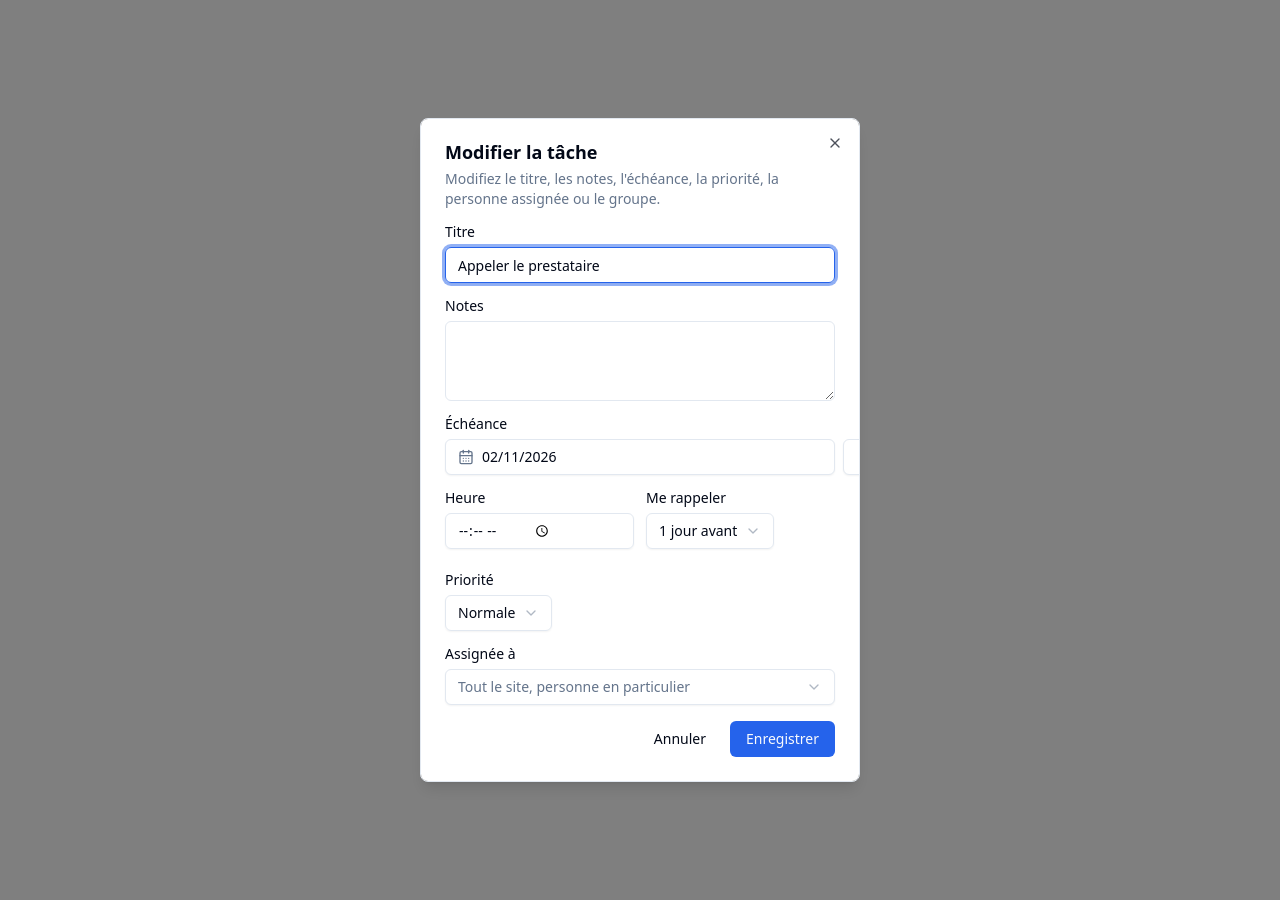
TodoEditDialog › still shows the Teams section, with a hint, when no team exists yet
This screenshot has width=1280, height=900.
Click the dropdown named "Assignée à" at (640, 687), box [445,669,835,705]
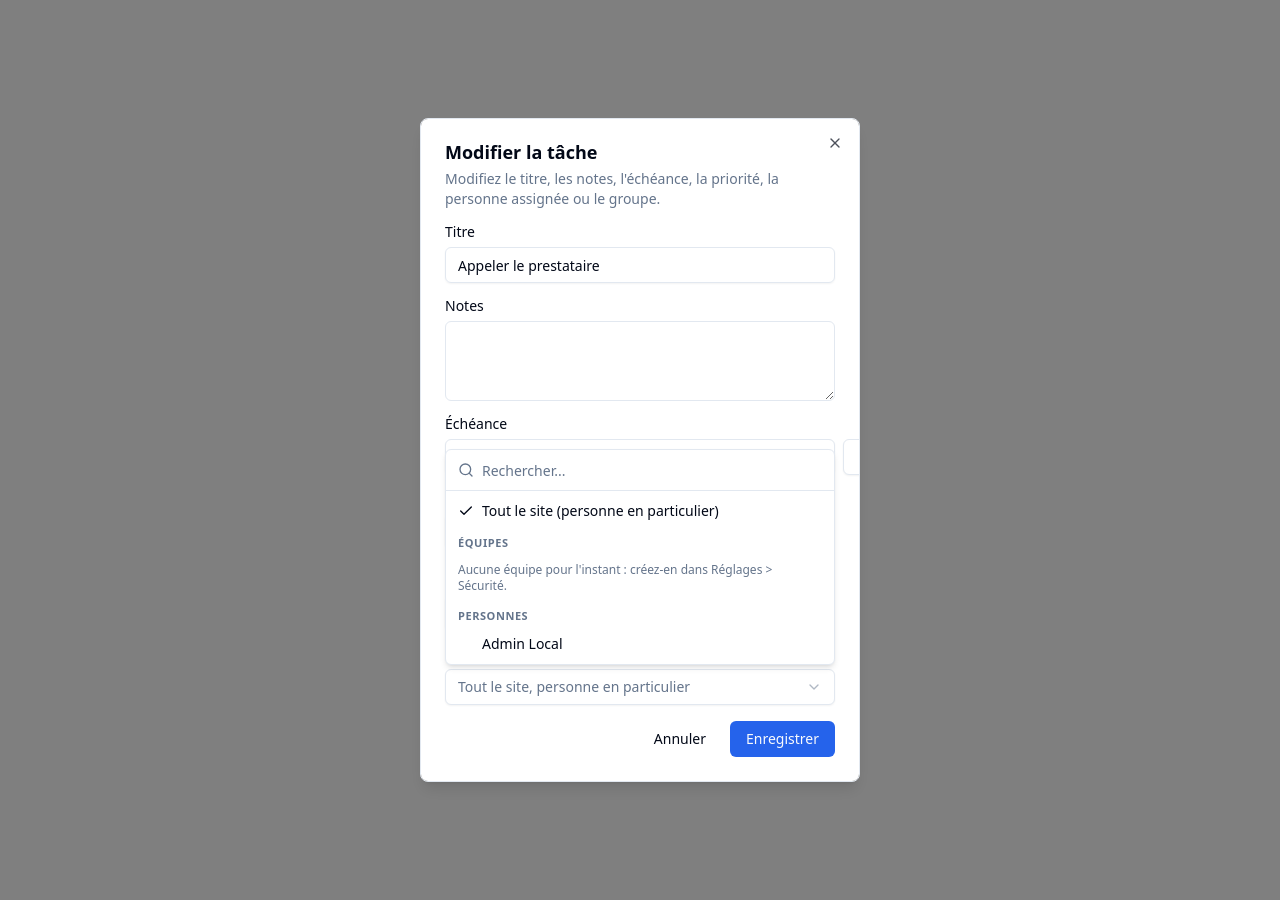
Now the element "Équipes" is shown, box [458,535,772,594]
Now the text "Aucune équipe" is shown, box [458,560,772,594]
